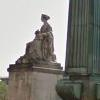Statue: (15, 7, 66, 66)
